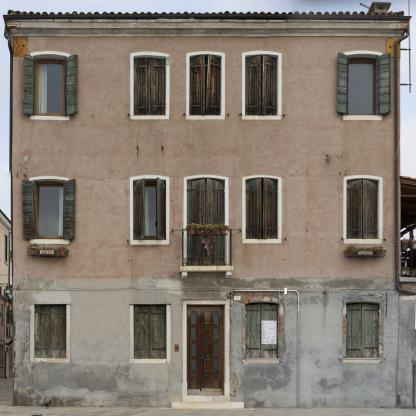Building Outline: (3, 1, 412, 408)
Door: (186, 305, 225, 396), (187, 181, 225, 266)
Facade: (3, 2, 413, 409)
Floor: (12, 153, 401, 278)
Floor Slab: (12, 140, 401, 153), (13, 266, 402, 279)
Ground Floor: (12, 278, 401, 409)
Top Floor: (13, 20, 401, 153)
Window: (33, 181, 66, 239), (133, 182, 166, 240), (347, 58, 380, 115), (246, 58, 279, 115), (134, 58, 166, 116), (347, 181, 379, 239), (246, 181, 278, 239), (190, 58, 221, 116), (346, 305, 379, 359), (34, 305, 67, 359), (134, 305, 166, 359), (246, 305, 278, 359), (35, 59, 64, 116)
